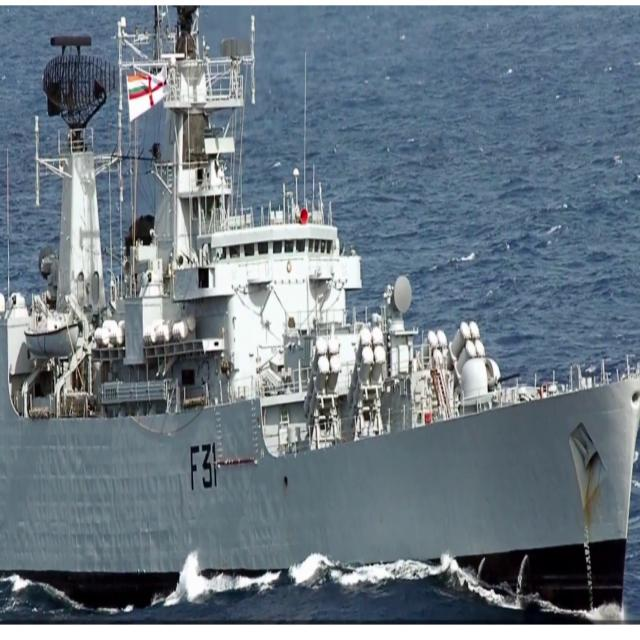OCR: (186, 436, 218, 496)
